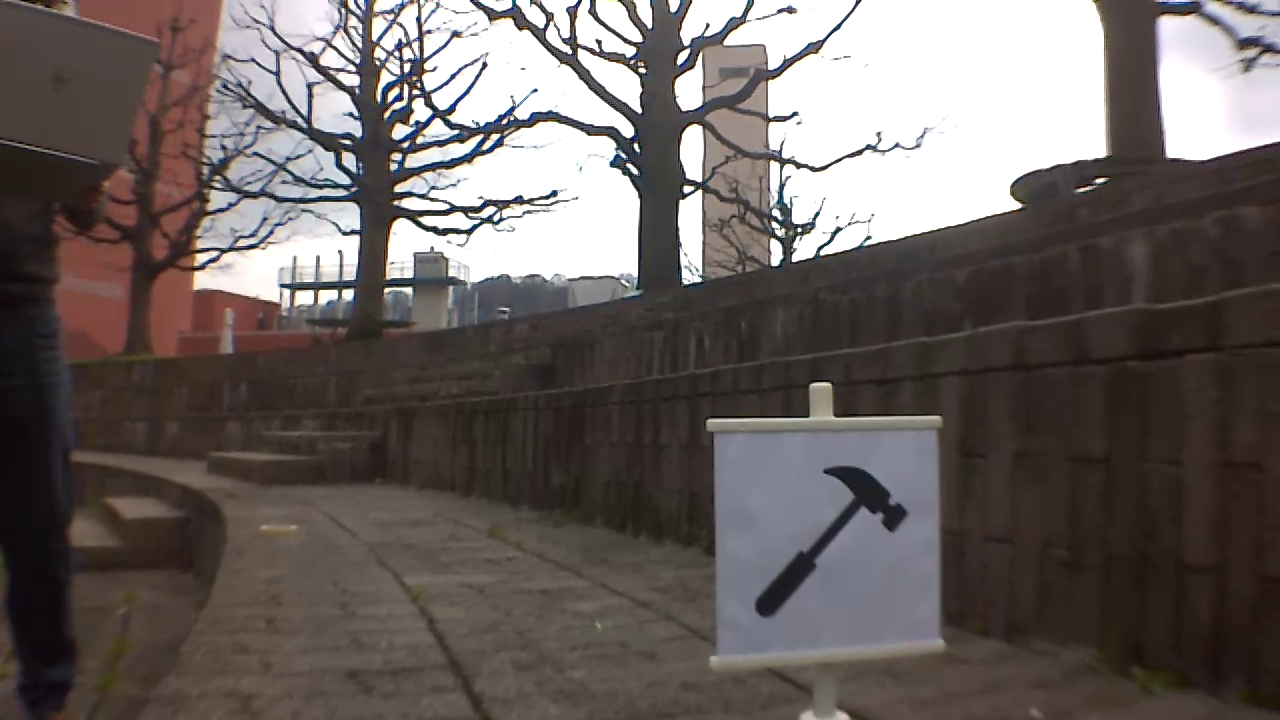hammer: (758, 464, 911, 621)
